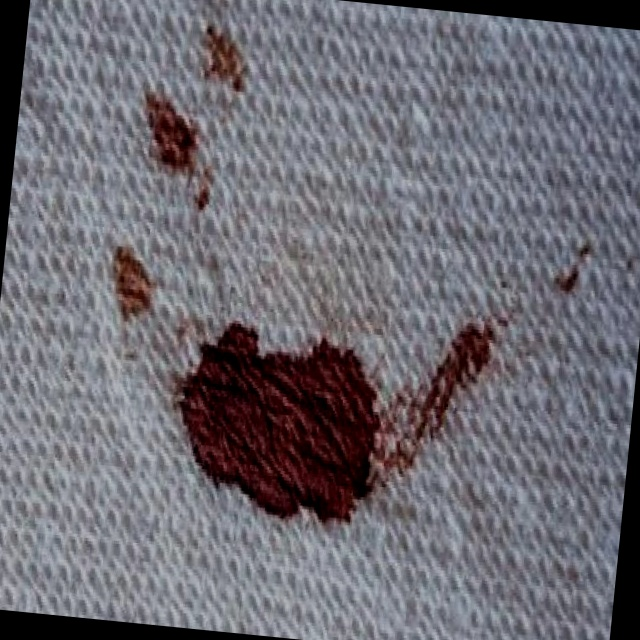blood: (169, 328, 389, 527)
